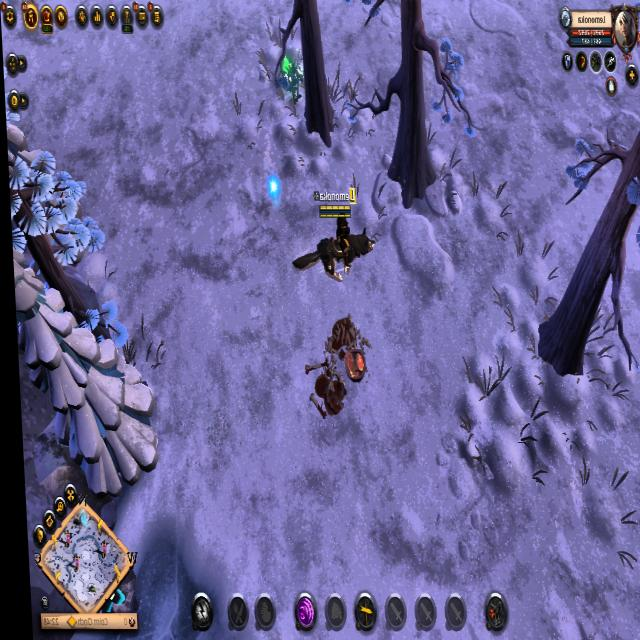fiber tier 4: (279, 59, 304, 108)
